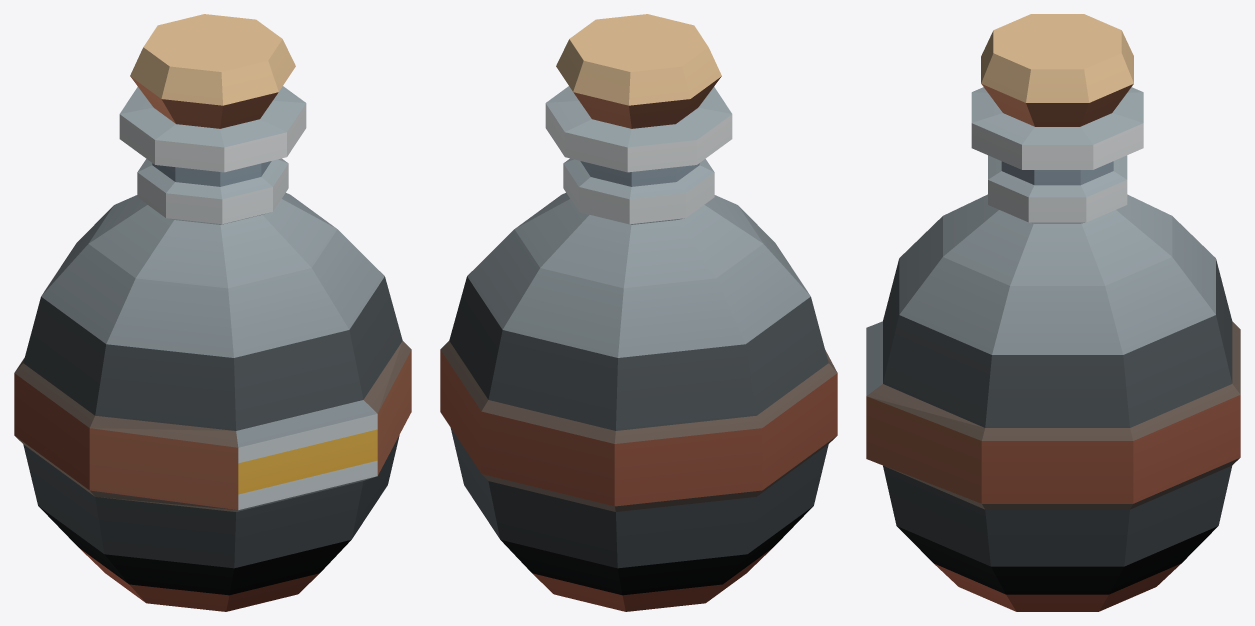
The model's file is source.glb.
3 views of the same model, side by side, from view 1: azimuth 30°, elevation 25°; view 2: azimuth 150°, elevation 25°; view 3: azimuth 270°, elevation 25° (orthographic).
Visible parts, largest first — view 1: model; view 2: model; view 3: model.
Part boxes in pixels (bbox=[...]): model: bbox=[14, 14, 411, 611]; model: bbox=[440, 14, 837, 611]; model: bbox=[866, 14, 1240, 611].
Size of the model in its own units: 0.72 by 1.12 by 0.72.
1 material, 1 textured.
